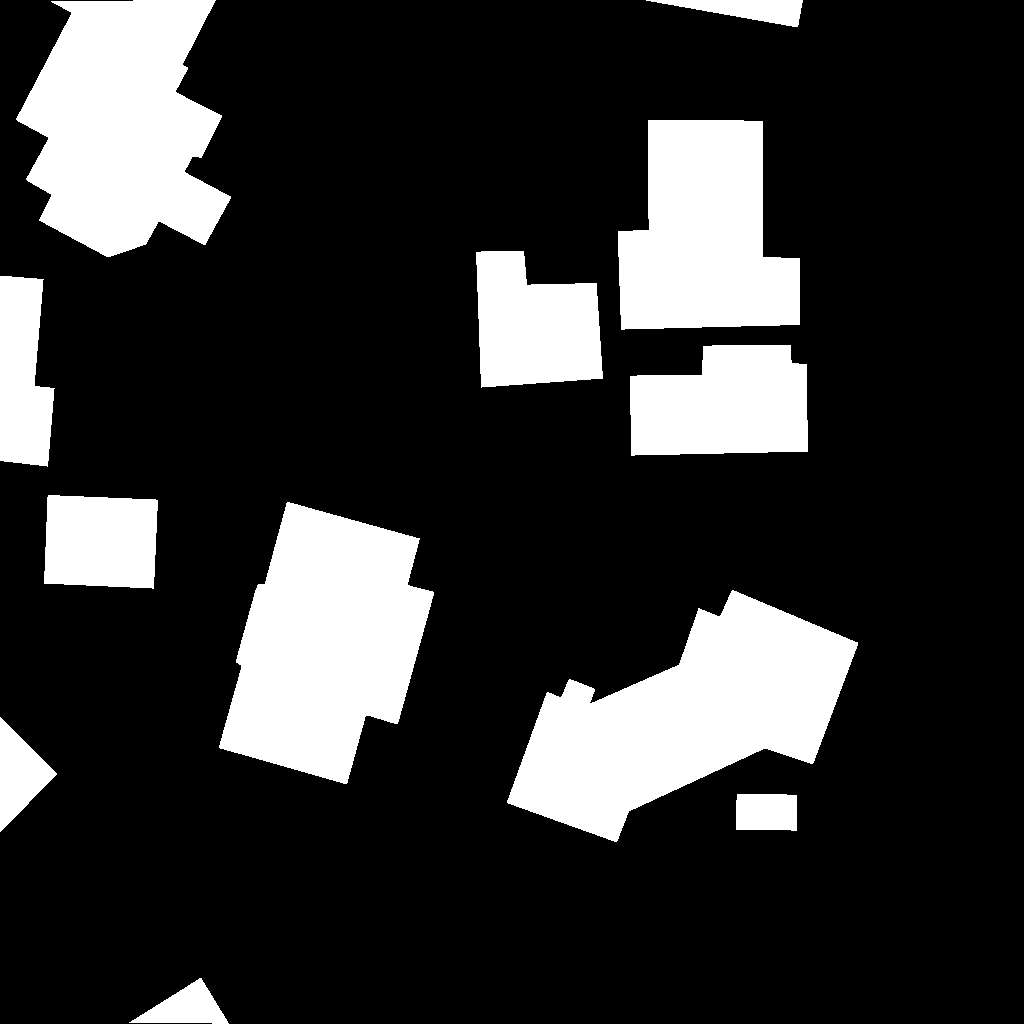building: (507, 590, 859, 843), (219, 502, 435, 785), (16, 0, 232, 258), (618, 120, 800, 330), (630, 345, 809, 456), (476, 251, 604, 388), (44, 495, 159, 589), (0, 276, 55, 467), (0, 717, 58, 833), (129, 978, 230, 1024), (643, 0, 804, 28), (736, 794, 798, 831)
